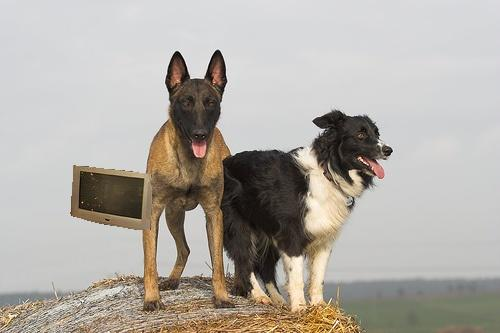tampered: (71, 166, 152, 230)
